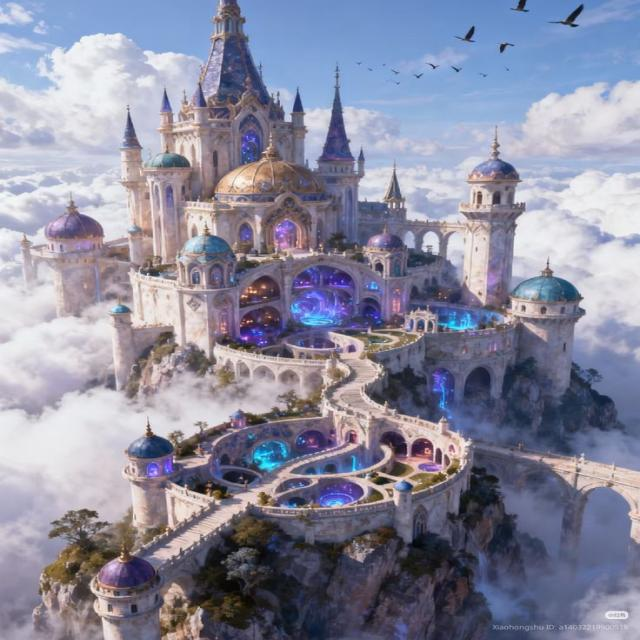castle: (18, 9, 623, 430)
